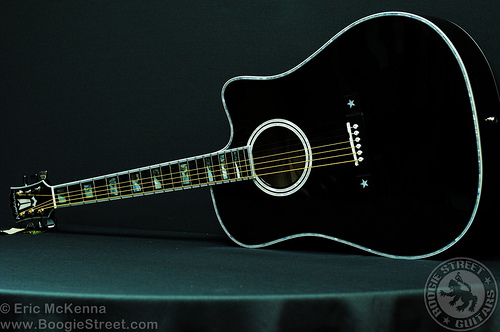guitar: (6, 9, 498, 261)
